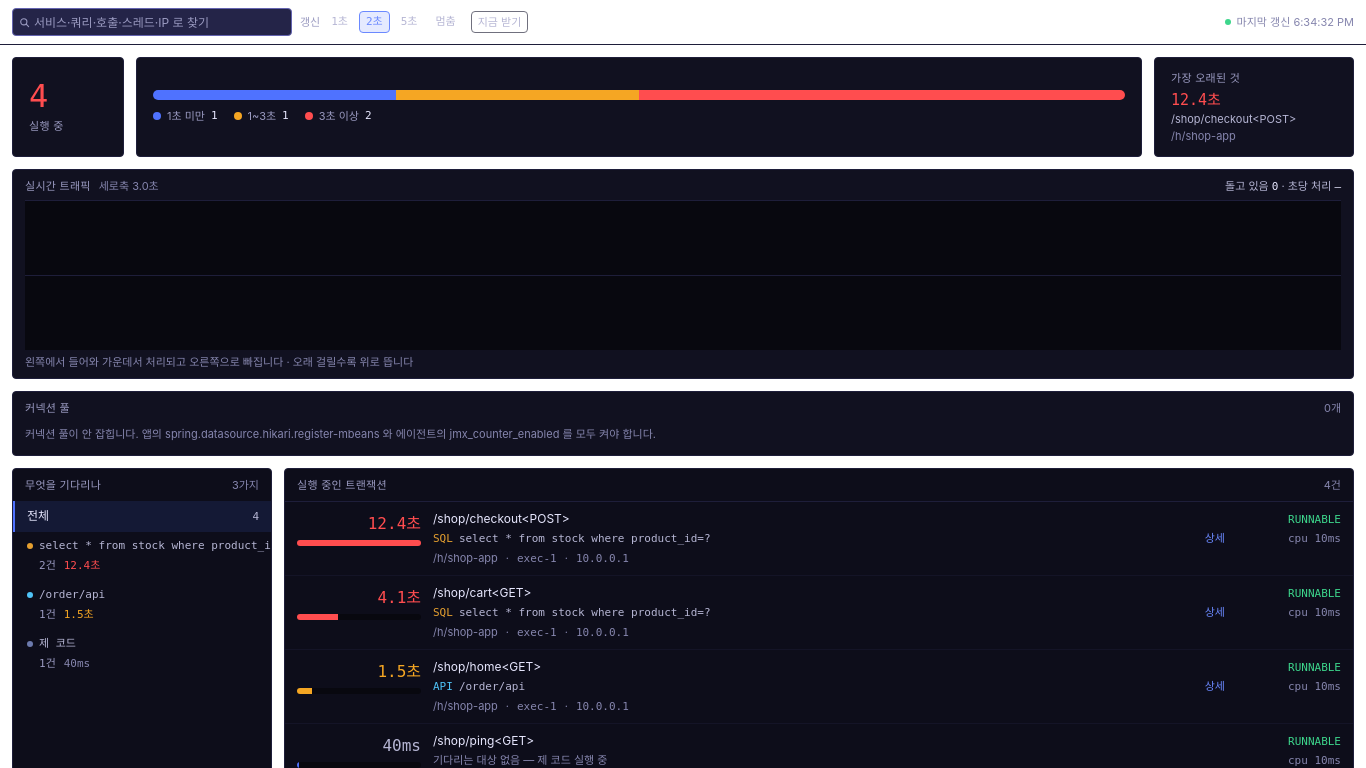
it: ActiveTab — 리소스로 접기 › 고른 묶음을 다시 누르면 전체로 돌아온다
The width and height of the screenshot is (1366, 768).
What coordinates should you click on to do the following:
click the button "select * from stock where product_id=? 2건 12.4초"
I would click on:
 (142, 556)
Its box is [13,532,271,580].
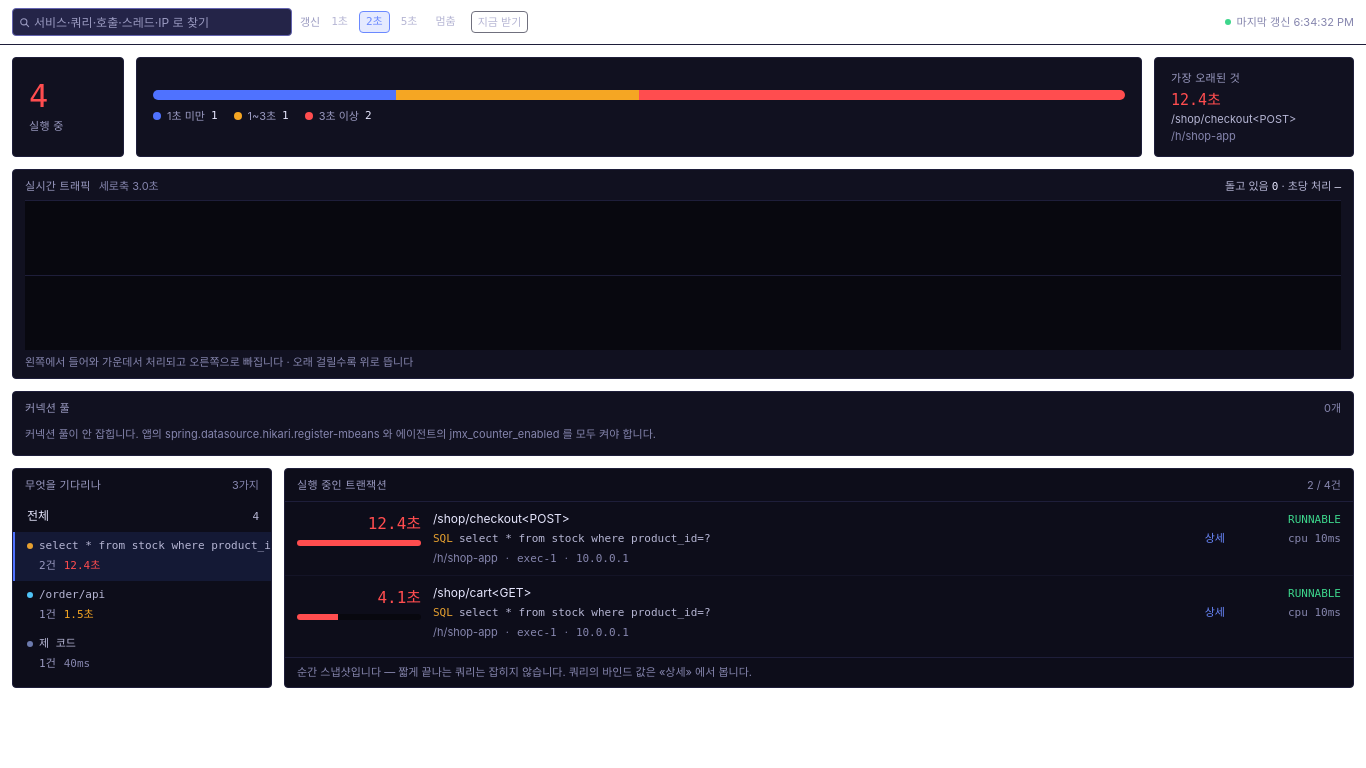
What coordinates should you click on to do the following:
click the button "select * from stock where product_id=? 2건 12.4초"
I would click on:
 (142, 556)
Its box is [13,532,271,580].
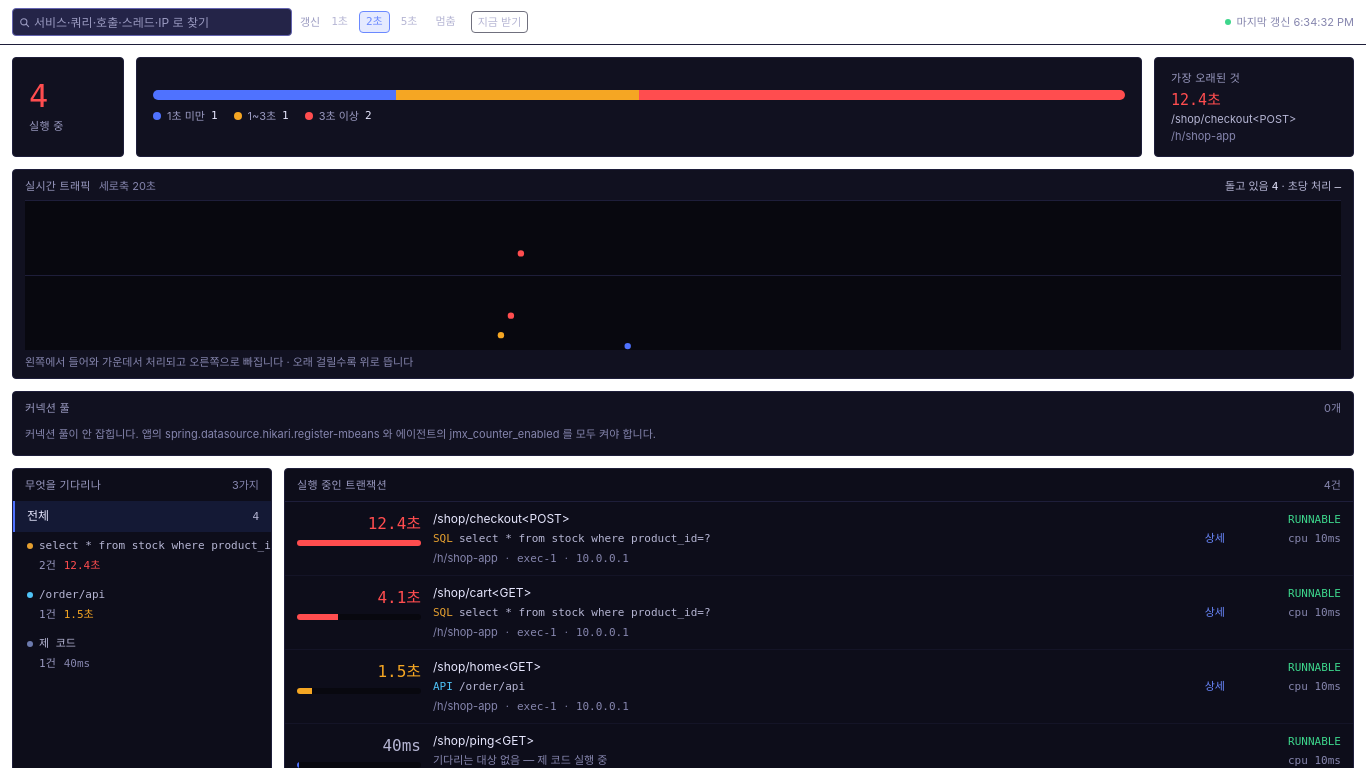
Check: the text "/shop/ping<GET>" is shown, box [433,733,534,748]
